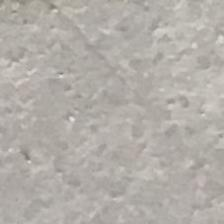Non_Crack: (32, 10, 197, 160)
